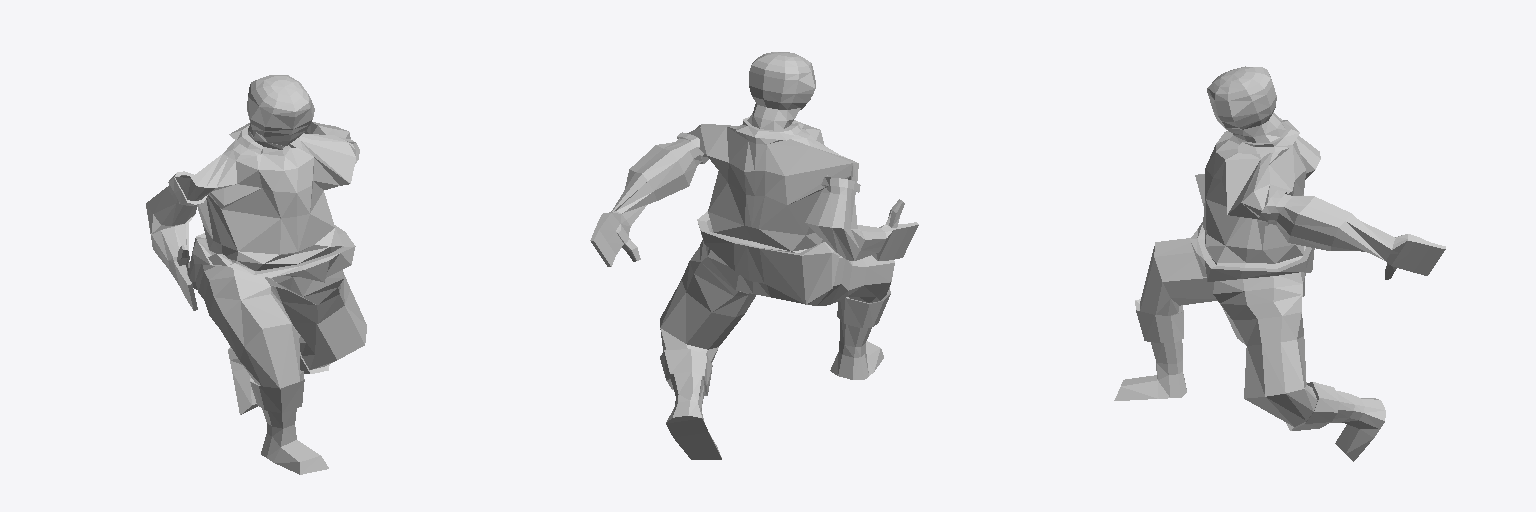
The model's file is run_2.obj.
3 views of the same model, side by side, from view 1: azimuth 30°, elevation 25°; view 2: azimuth 150°, elevation 25°; view 3: azimuth 270°, elevation 25° (orthographic).
Parts seen in each view (by area): view 1: Default_Body_Cube; view 2: Default_Body_Cube; view 3: Default_Body_Cube.
Part boxes in pixels (x1,y1,x2,y2): Default_Body_Cube: (146, 75, 366, 474); Default_Body_Cube: (590, 52, 918, 459); Default_Body_Cube: (1114, 66, 1445, 461).
Bounding box in the file's own units: 4.32 × 7.04 × 5.66.